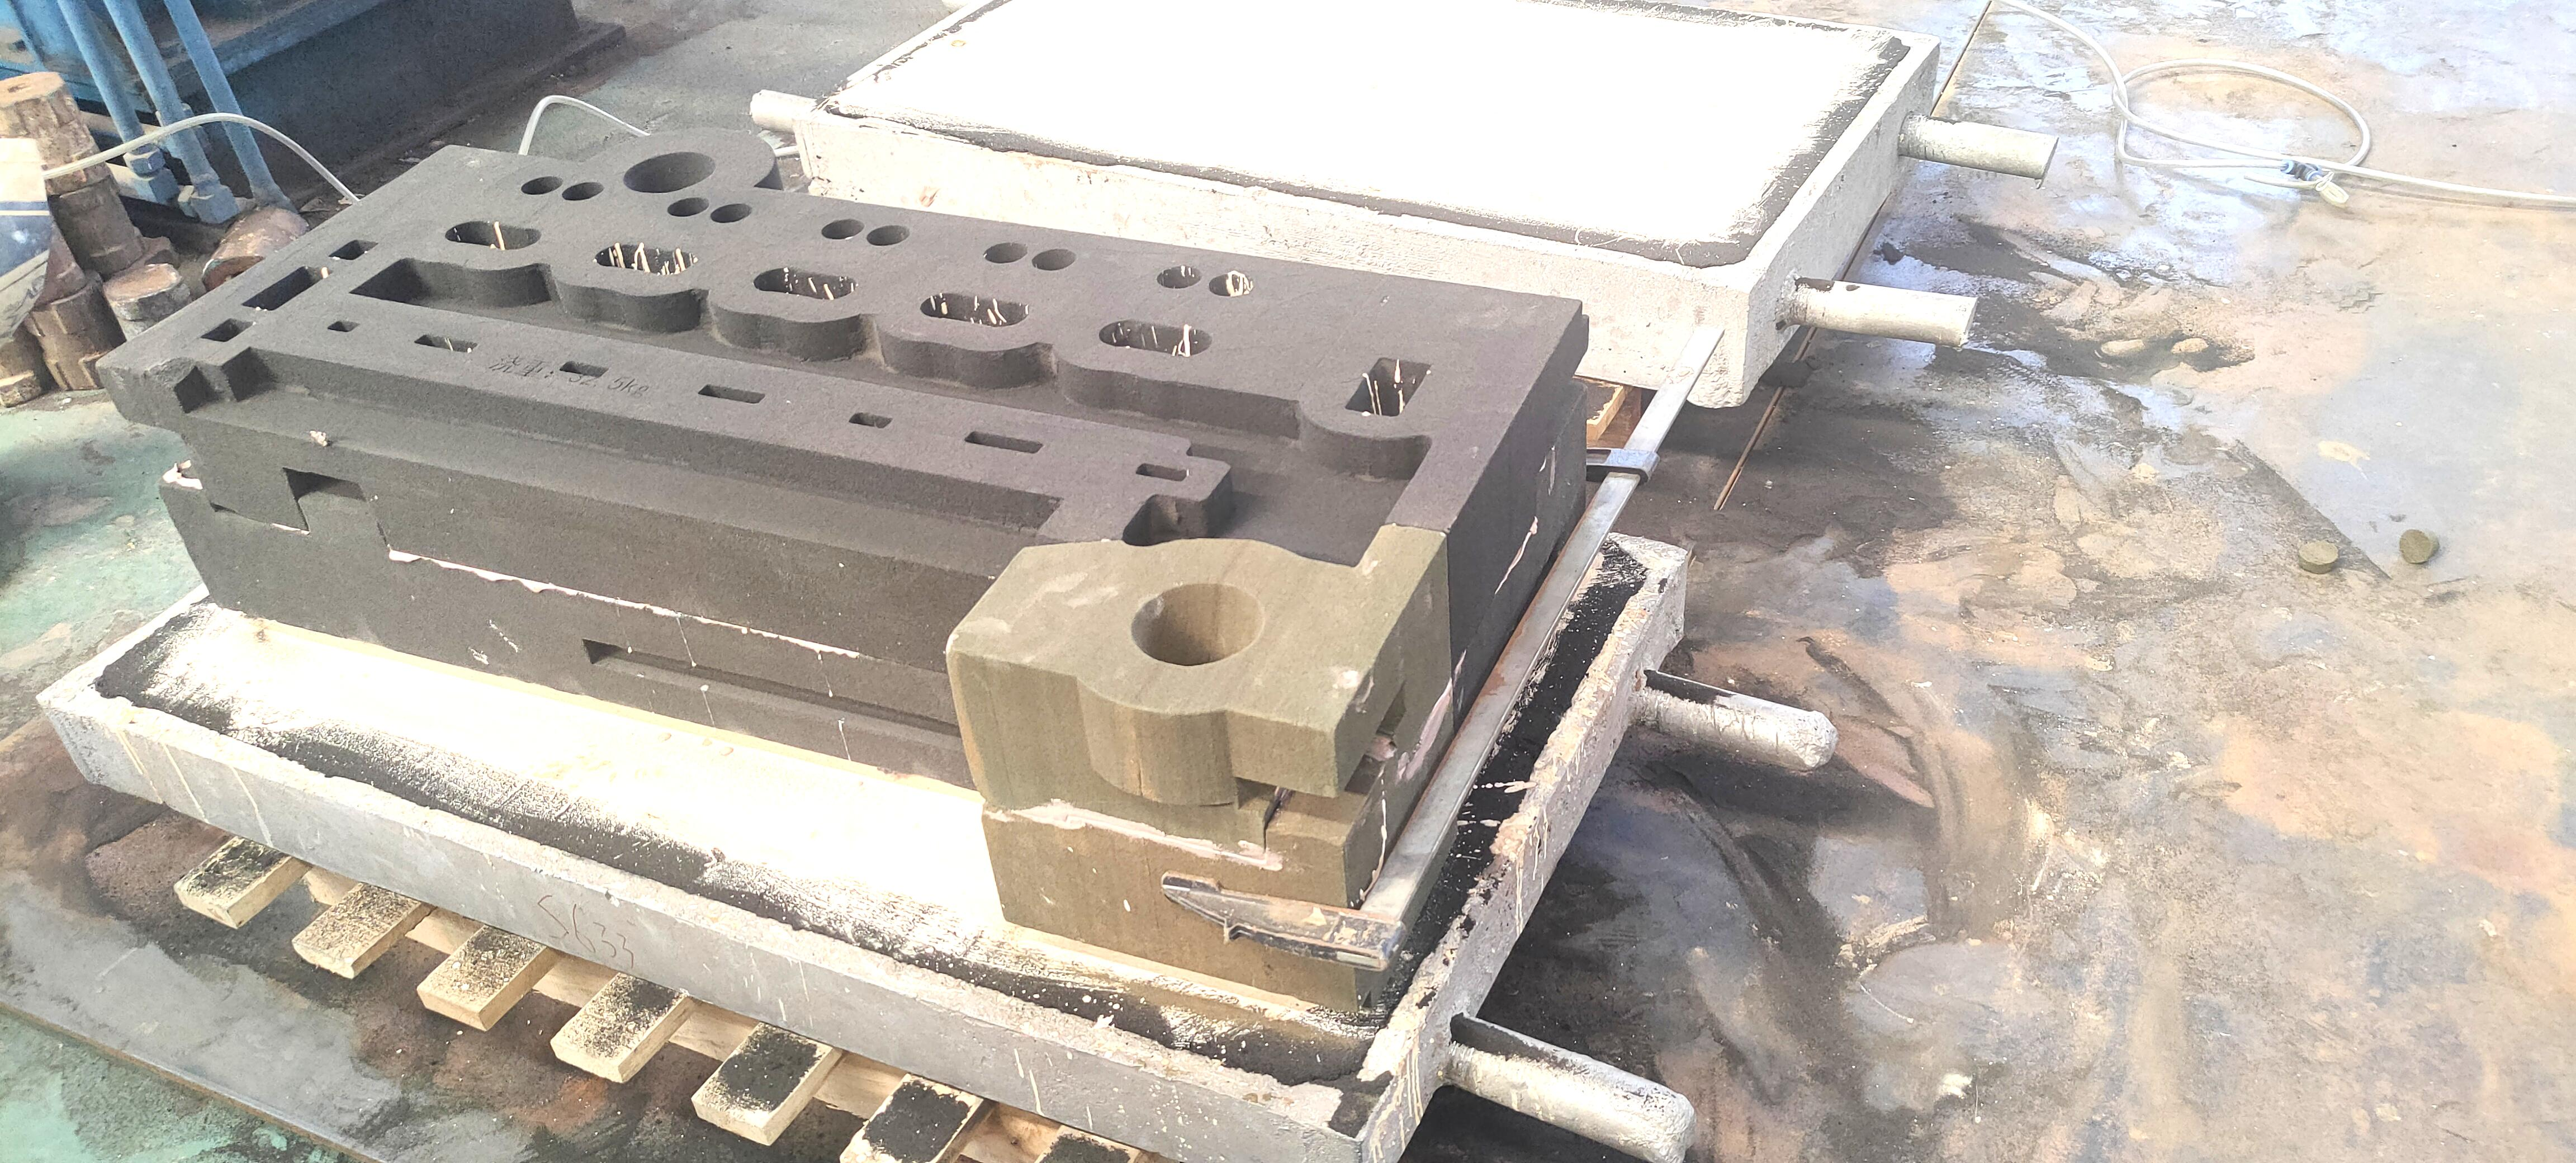pouring hole: (1130, 583, 1263, 665), (624, 151, 715, 192)
